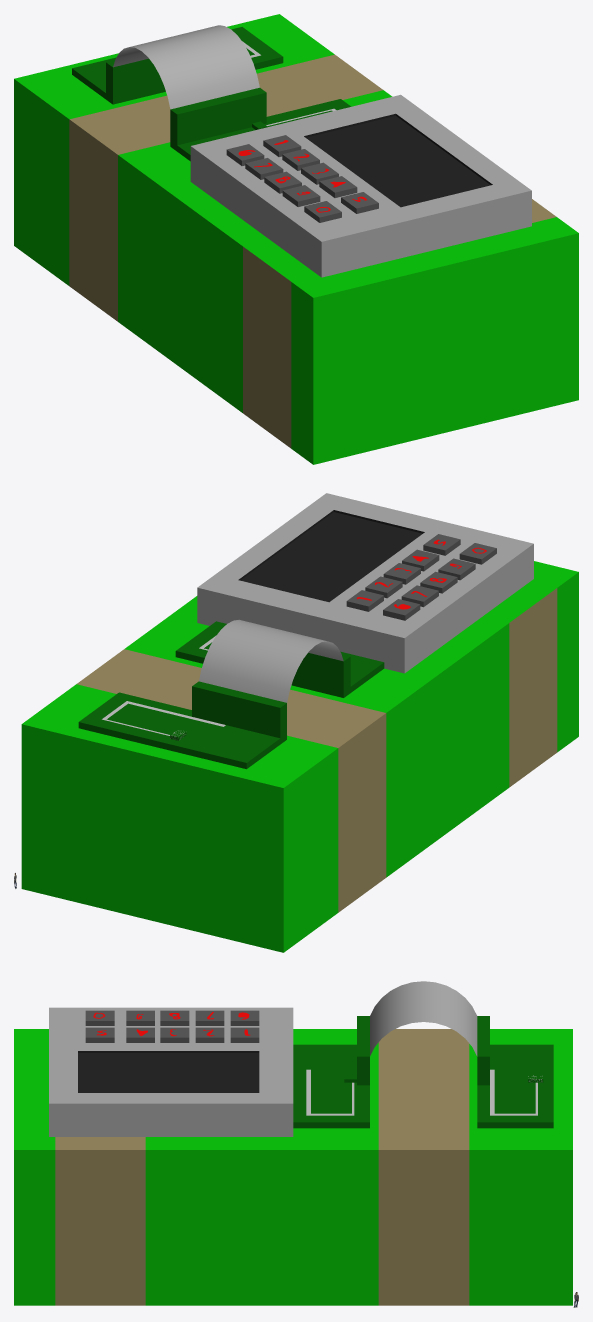
Rendered from bomba3.dae.
The picture shows the model from 3 angles, top to bottom: view 1: azimuth 30°, elevation 25°; view 2: azimuth 150°, elevation 25°; view 3: azimuth 270°, elevation 25°; orthographic projection. The views are drawn at different scales.
Parts seen in each view (by area): view 1: SketchUp (×9); view 2: SketchUp (×9); view 3: SketchUp (×19), Component_2 (×2).
Part boxes in pixels (x1,y1,x2,y2): SketchUp (×9): [14, 14, 578, 464]; SketchUp (×9): [21, 493, 578, 952]; SketchUp (×19): [14, 981, 572, 1305]; Component_2 (×2): [306, 1069, 537, 1115].
Size of the model in its own units: 1119 by 2173 by 956.
